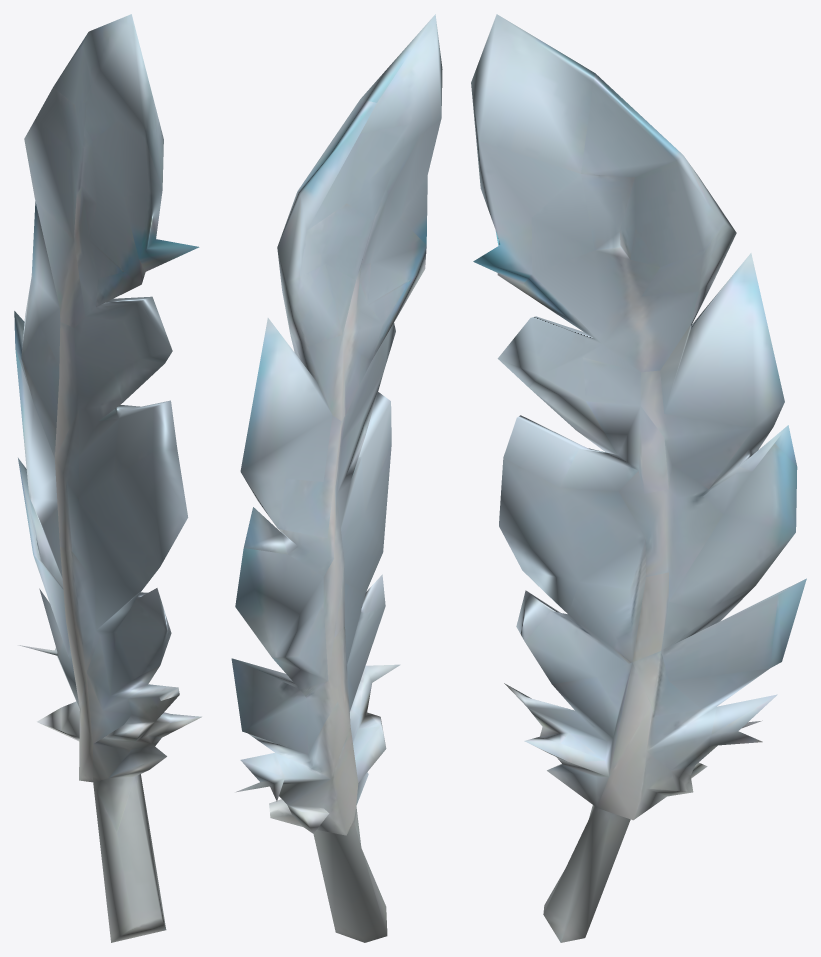
Rendered from feather.glb.
3 renders of one model, left to right at view 1: azimuth 30°, elevation 25°; view 2: azimuth 150°, elevation 25°; view 3: azimuth 270°, elevation 25°, orthographic. The views are drawn at different scales.
Parts seen in each view (by area): view 1: tripo_node_5b1c84c7-574c-4005-ac55-33ec8a40afcd; view 2: tripo_node_5b1c84c7-574c-4005-ac55-33ec8a40afcd; view 3: tripo_node_5b1c84c7-574c-4005-ac55-33ec8a40afcd.
Boxes of the visible parts, x1,y1,x2,y2 form: tripo_node_5b1c84c7-574c-4005-ac55-33ec8a40afcd: (14,14,201,942); tripo_node_5b1c84c7-574c-4005-ac55-33ec8a40afcd: (231,14,442,942); tripo_node_5b1c84c7-574c-4005-ac55-33ec8a40afcd: (471,14,806,942).
Bounding box in the file's own units: 0.2176 × 2.2 × 0.7442.
1 material, 1 textured.
